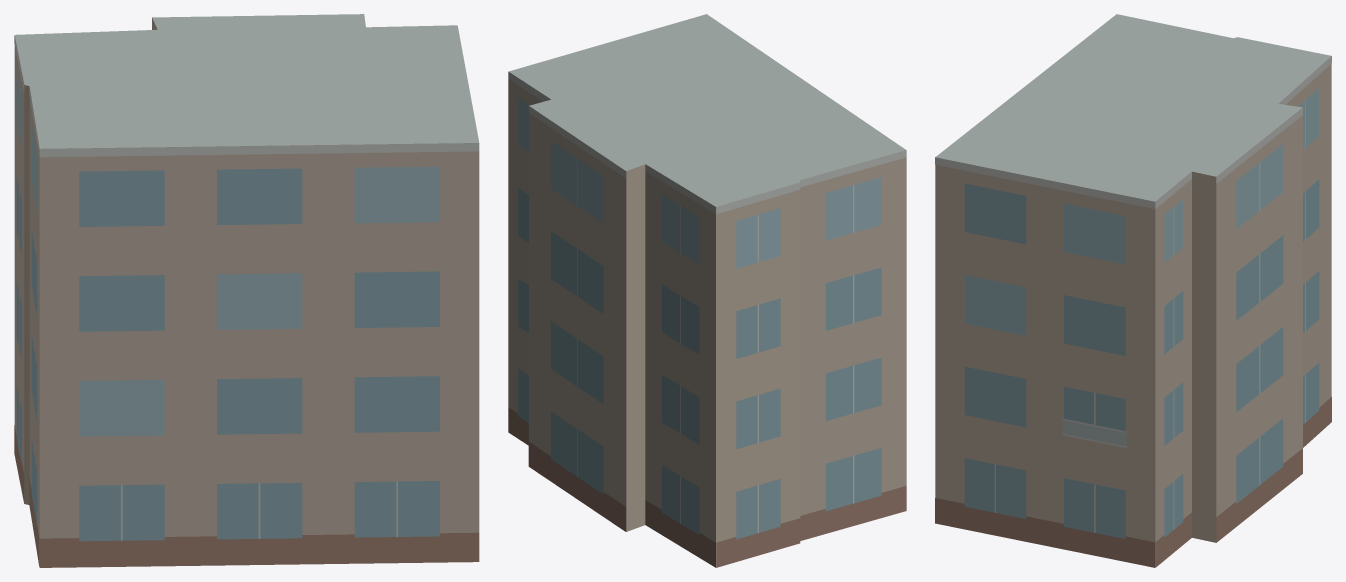
File: survey-upis-32847773.glb
3 views of the same model, side by side, from view 1: azimuth 30°, elevation 25°; view 2: azimuth 150°, elevation 25°; view 3: azimuth 270°, elevation 25° (orthographic). The views are drawn at different scales.
Parts seen in each view (by area): view 1: survey-upis-32847773.tmp; view 2: survey-upis-32847773.tmp; view 3: survey-upis-32847773.tmp.
Boxes of the visible parts, x1,y1,x2,y2 form: survey-upis-32847773.tmp: [14, 14, 479, 567]; survey-upis-32847773.tmp: [508, 14, 906, 567]; survey-upis-32847773.tmp: [935, 14, 1331, 567].
Size of the model in its own units: 13.31 by 12.1 by 11.89.
